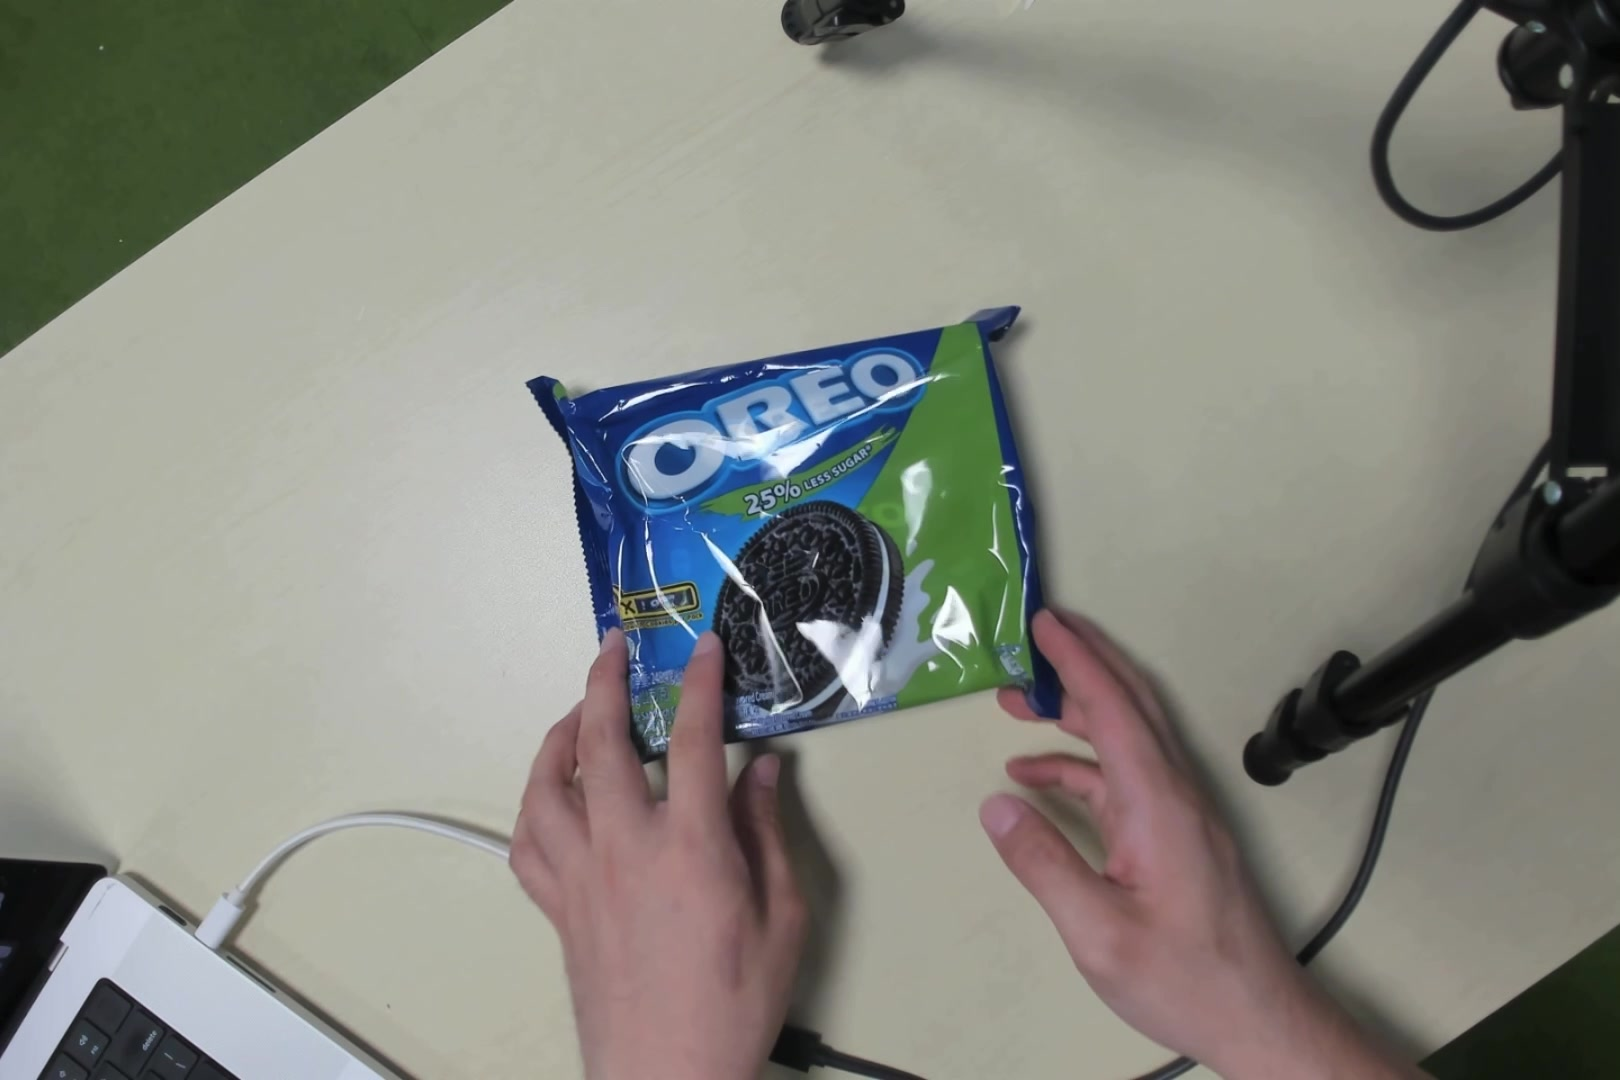SweetsChocolatesOthers_200-299g_Halal_NonHealthy: (552, 333, 1029, 702)
